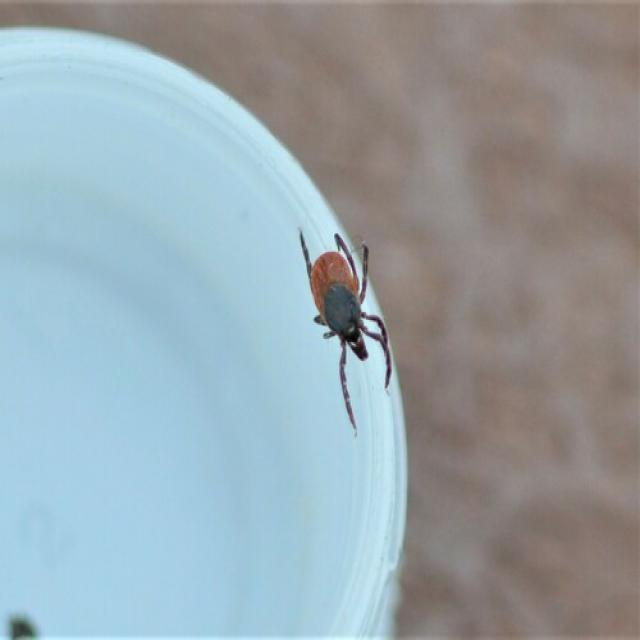Ixodes Ricinus-F: (300, 229, 397, 438)
